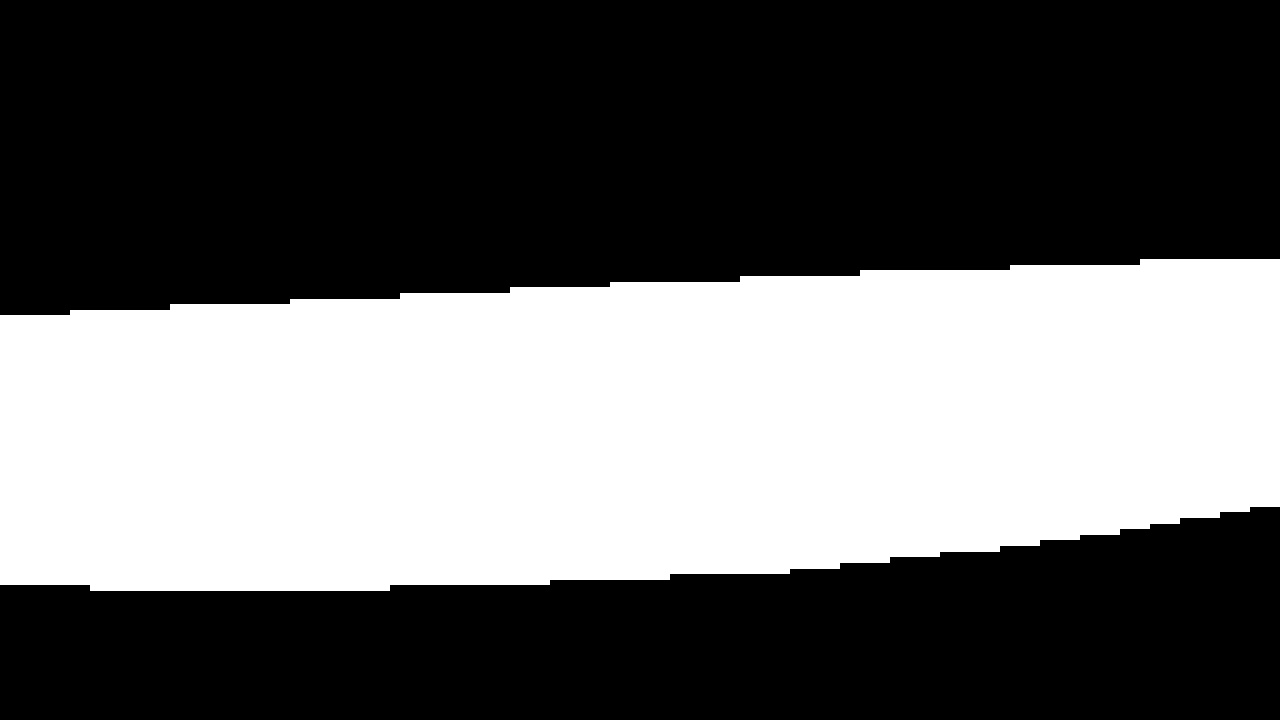Turbine: (9, 239, 1263, 618)
